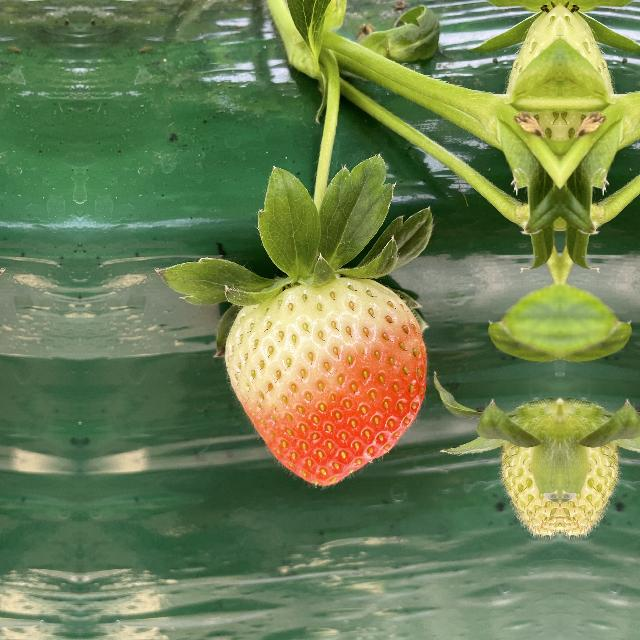Health_25: (502, 392, 560, 534), (560, 392, 618, 534)
Health_75: (217, 274, 435, 490)
